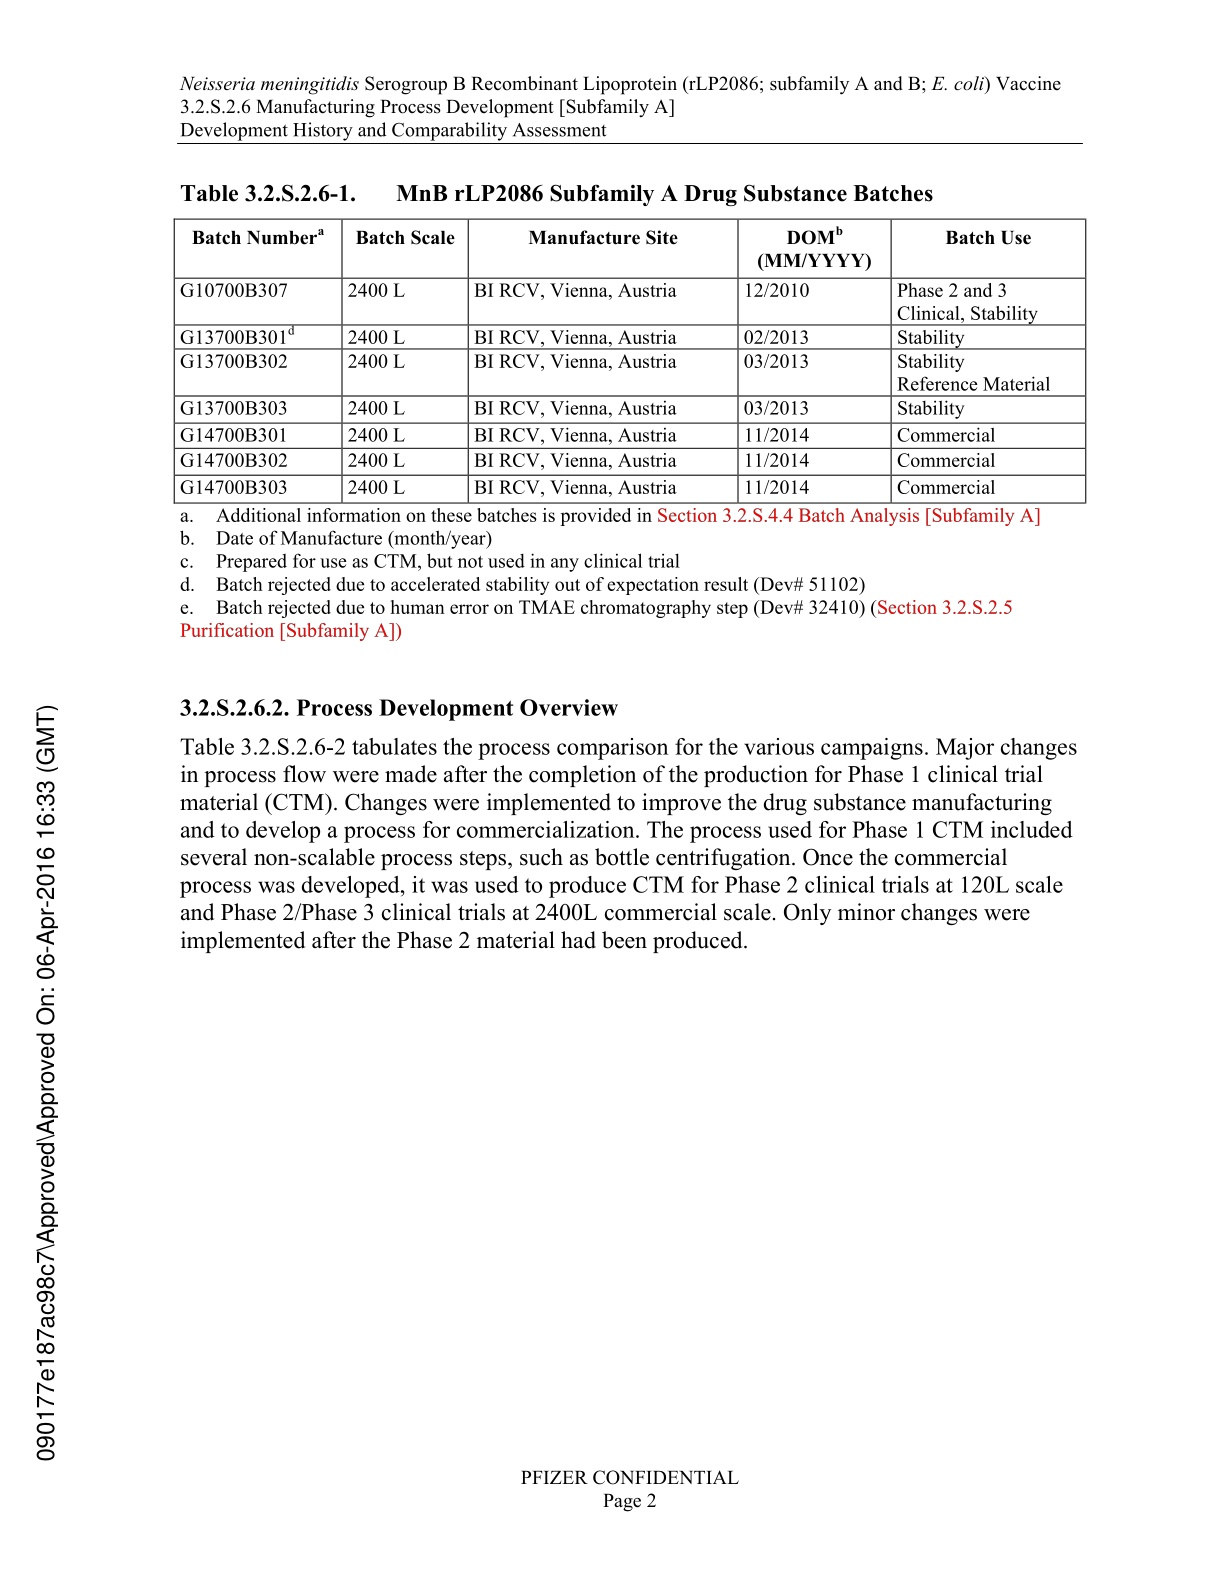full_lined: (174, 216, 1086, 505)
